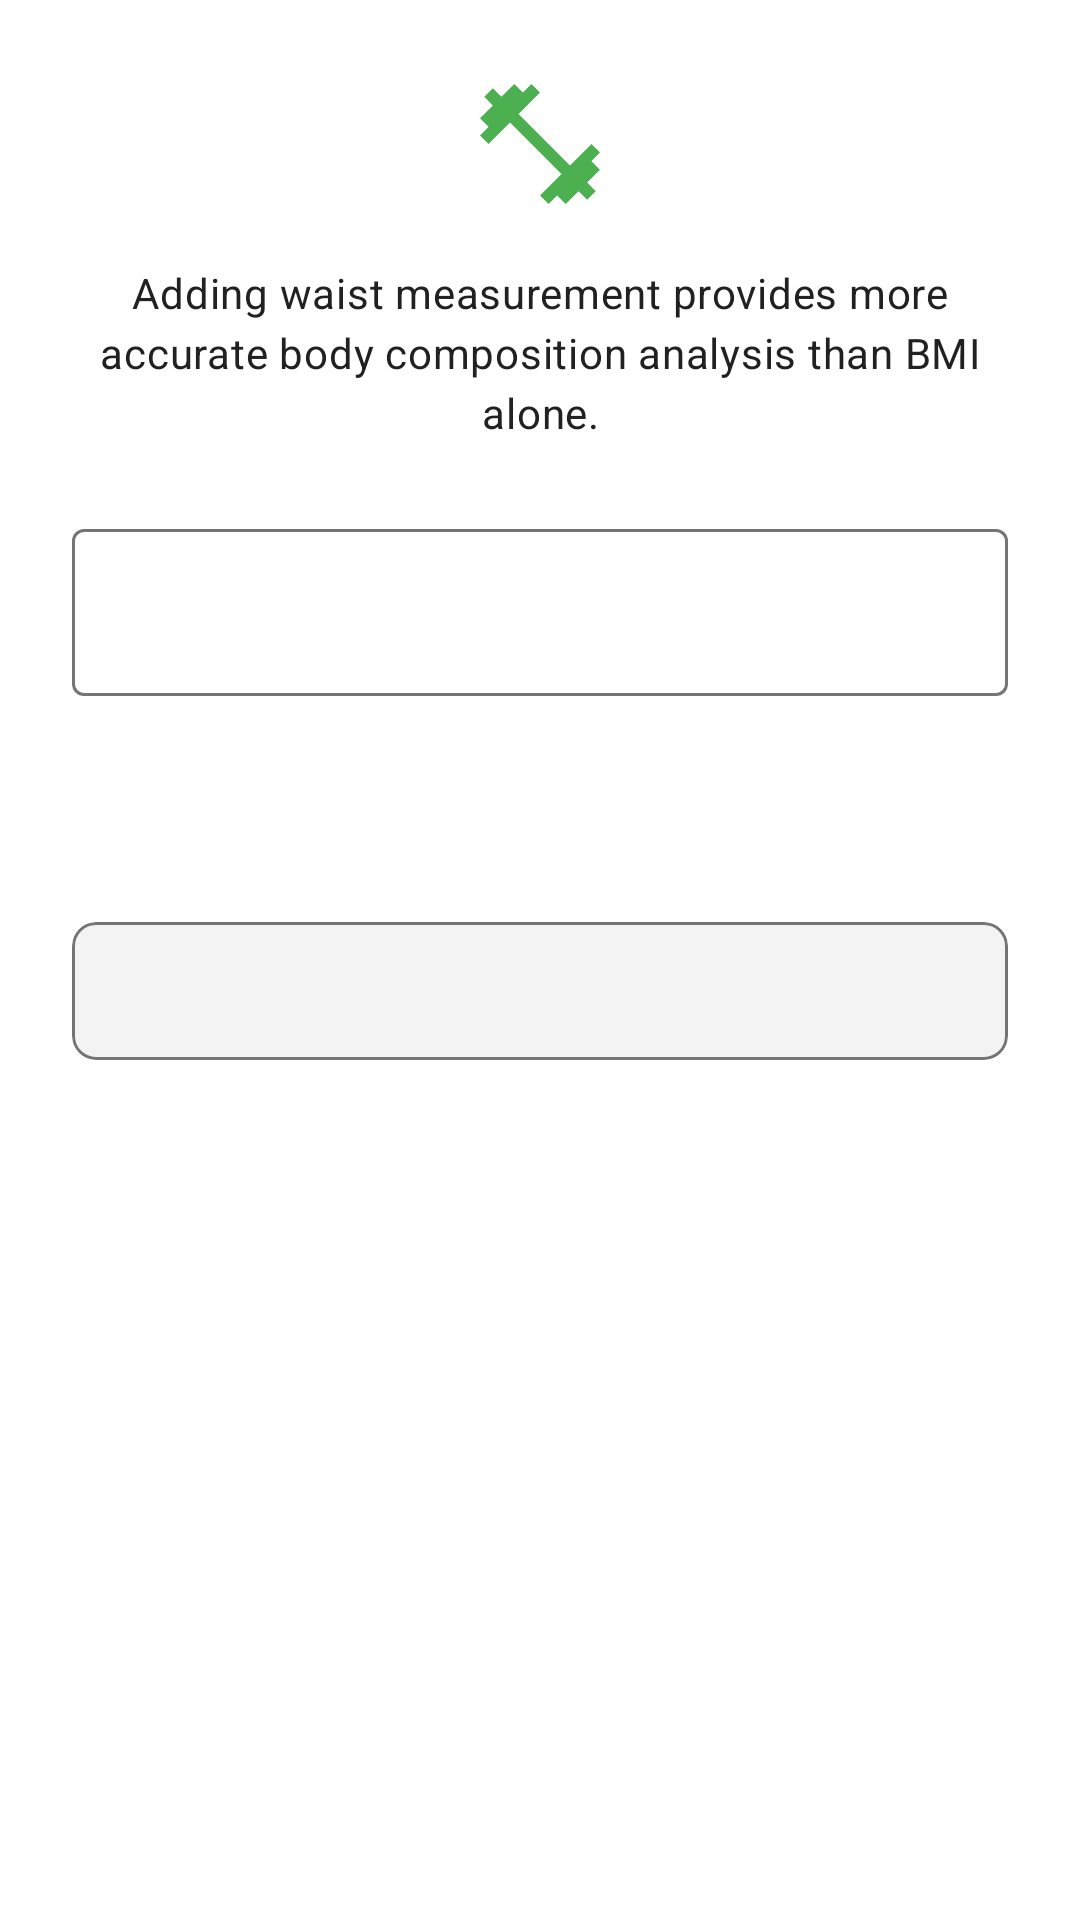

Screen size 1080px×1920px. Icon name, then its box in pixels as (x1, y1, x2, y2):
fitness: (480, 84, 600, 204)
